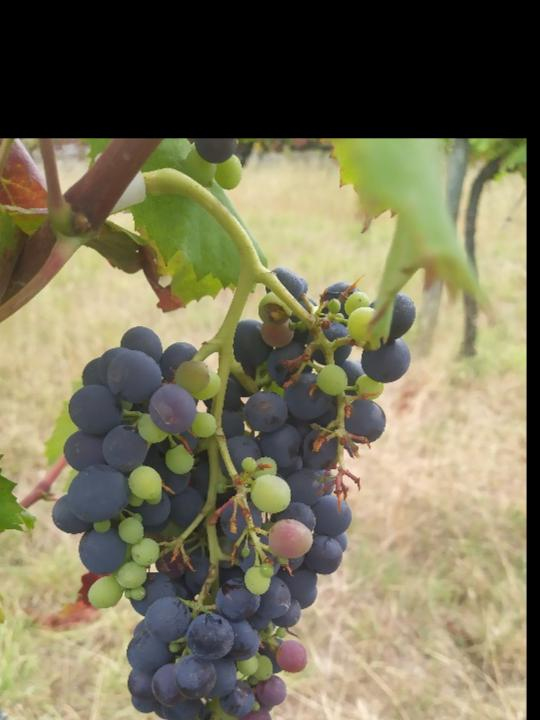grape: (50, 262, 421, 720)
